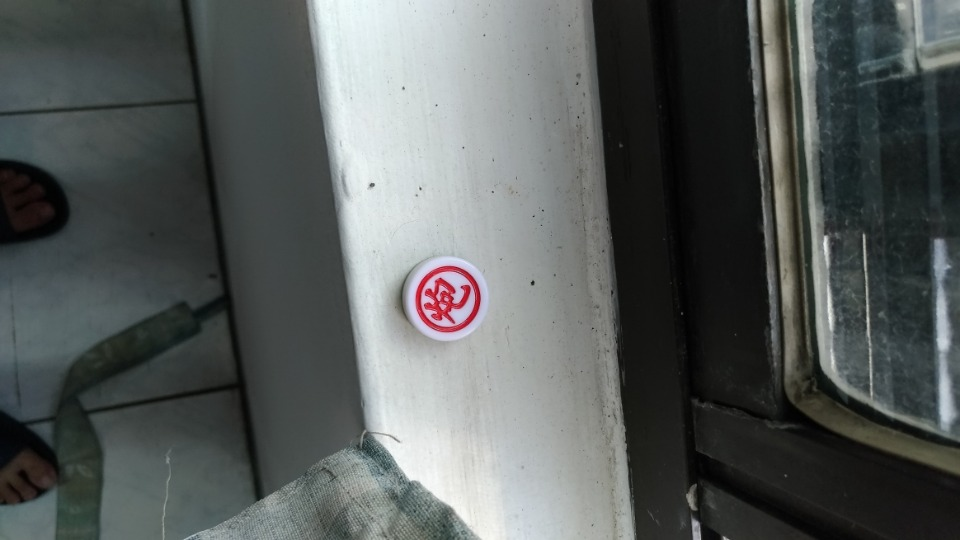r-cannon: (383, 244, 500, 346)
